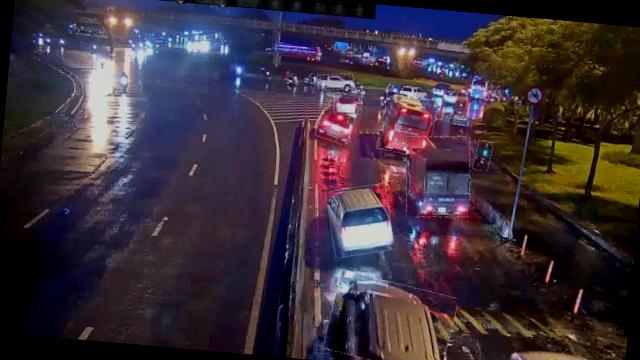Bike: (472, 140, 492, 172)
Bus: (378, 93, 437, 158)
Car: (324, 273, 457, 360), (324, 182, 396, 259), (316, 104, 356, 144), (317, 72, 354, 92), (332, 92, 362, 116)
Truck: (402, 133, 476, 220)
